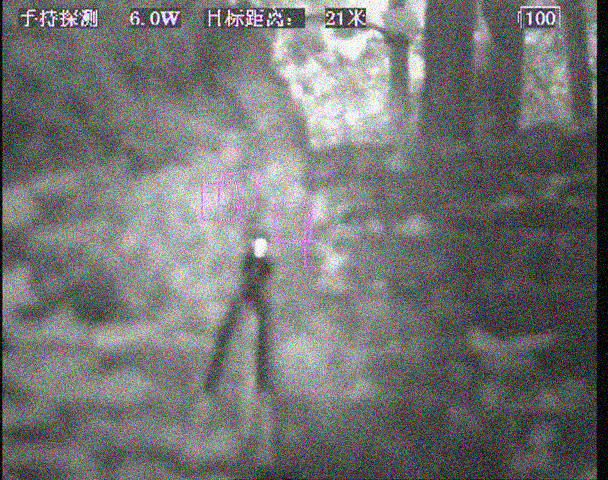my: (249, 237, 269, 257)
